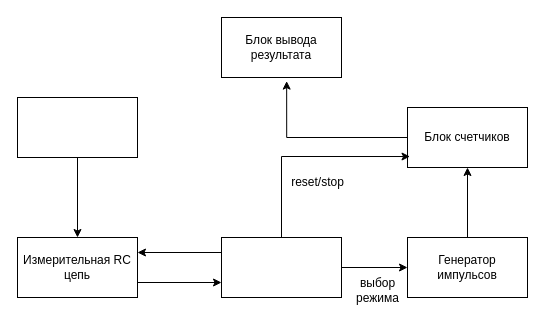
Image size: 545x328. Some labels were removed from this diagram. Each missing label, with the centre of its shape:
"Блок Управления" belongs at point 281,267.
"Измерительный резистор" belongs at point 77,127.
